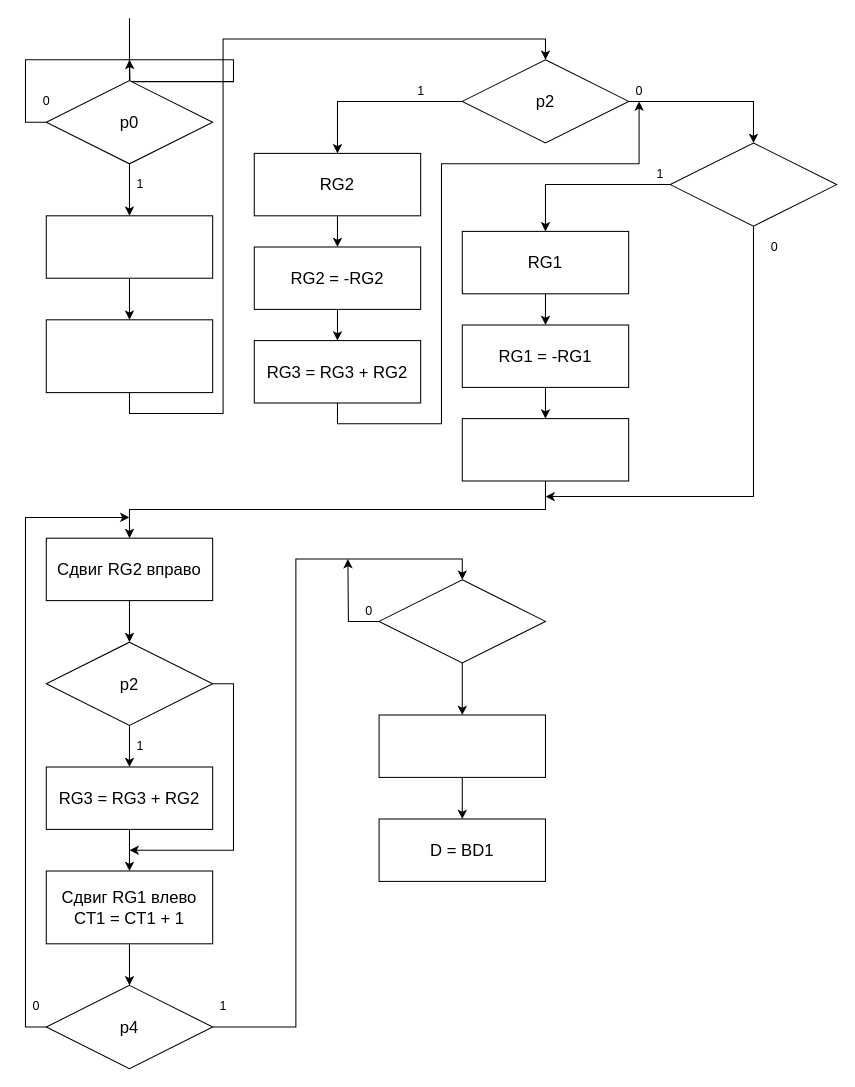
Image size: 855x1087. Some labels were removed from this diagram. Each missing label, with the centre of its shape:
"D = BD2" goes at (x=461, y=745).
"p1" goes at (x=461, y=621).
"p3" goes at (x=753, y=184).
"RG1 = D1" goes at (x=129, y=246).
"RG2 = D2 RG3 = 0 CT1 = 0001" goes at (x=129, y=356).
"RG3 = RG3 + RG1" goes at (x=545, y=449).
